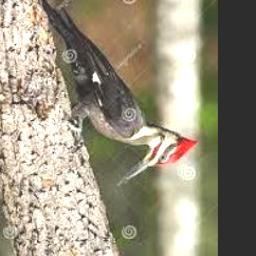Woodpecker: (34, 0, 196, 186)
